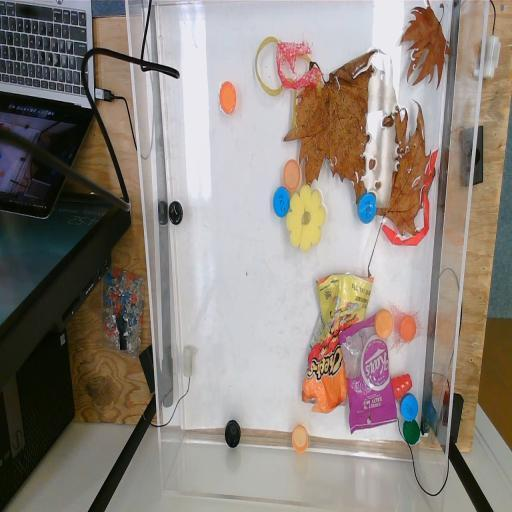Bottle Cap: (357, 192, 377, 224), (283, 159, 302, 192), (400, 391, 420, 422), (219, 80, 237, 114), (374, 308, 394, 338), (272, 186, 290, 218), (402, 418, 420, 445), (292, 424, 308, 454), (224, 418, 240, 448), (400, 315, 416, 343), (168, 200, 184, 226)
Cone Cap: (391, 372, 413, 401)
Leaf: (350, 56, 436, 280), (282, 46, 394, 206), (398, 0, 452, 91)
Netting: (276, 34, 328, 98), (389, 300, 426, 355)
Plastic Bag: (301, 272, 375, 414), (338, 310, 398, 435)
Plastic Strand: (254, 34, 322, 132), (382, 146, 438, 248)
Sponge: (286, 184, 326, 252)
